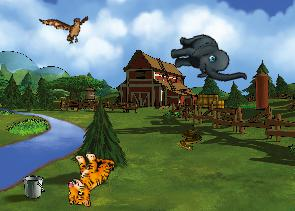eagle: (39, 2, 95, 52)
elephant: (167, 25, 247, 95)
tiger: (65, 150, 115, 208)
